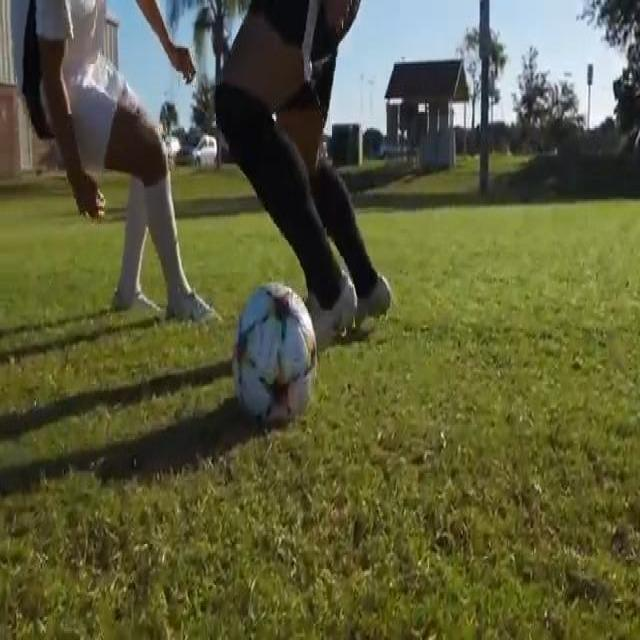Soccer Ball: (234, 281, 316, 428)
